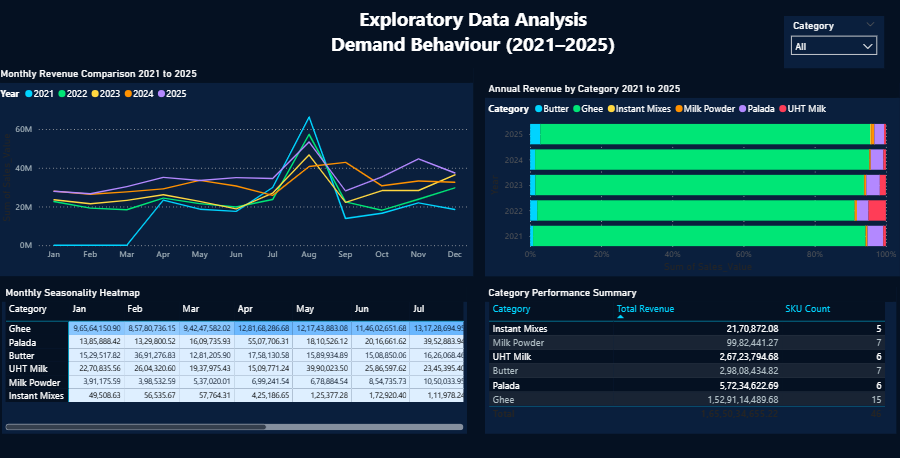

The dashboard page shown, as its layout file describes it:
{"tool":"powerbi","page":{"name":"EDA and Sales Trends","canvas":[1280,720],"ordinal":1},"visuals":[{"type":"slicer","fields":{"Values":["master_dairy_dataset.Category"]},"box":[1115.4,29.8,141.7,73.7],"z":0},{"type":"lineChart","title":"Monthly Revenue Comparison 2021 to 2025","fields":{"Y":["Sum(master_dairy_dataset.Sales_Value)"],"Series":["master_dairy_dataset.Year"],"Category":["master_dairy_dataset.Month_Name"]},"box":[0,103.5,674.6,294.8],"z":1000},{"type":"pivotTable","title":"Monthly Seasonality Heatmap","fields":{"Rows":["master_dairy_dataset.Category"],"Columns":["master_dairy_dataset.Month_Name"],"Values":["Sum(master_dairy_dataset.Sales_Value)"]},"box":[7.1,413.9,659.1,208.3],"z":2000},{"type":"hundredPercentStackedBarChart","title":"Annual Revenue by Category 2021 to 2025","fields":{"Category":["master_dairy_dataset.Year"],"Y":["Sum(master_dairy_dataset.Sales_Value)"],"Series":["master_dairy_dataset.Category"]},"box":[691.7,124.7,588.2,273.5],"z":3000},{"type":"tableEx","title":"Category Performance Summary","fields":{"Values":["master_dairy_dataset.Category","Sum(master_dairy_dataset.Sales_Value)","master_dairy_dataset.Product"]},"box":[691.7,413.9,582.5,208.3],"z":4000},{"type":"textbox","box":[354.3,9.9,640.6,93.5],"z":4001}]}

Visuals, with their boxes on the page's 1280x720 design canvas (x1, y1, x2, y2). These are canvas units, not pixel positions in the 900x458 screenshot, which may show the page scaled, cropped or inside an application window:
slicer - master_dairy_dataset.Category: 1115 30 1257 104
"Monthly Revenue Comparison 2021 to 2025" lineChart: 0 104 675 398
"Monthly Seasonality Heatmap" pivotTable: 7 414 666 622
"Annual Revenue by Category 2021 to 2025" hundredPercentStackedBarChart: 692 125 1280 398
"Category Performance Summary" tableEx: 692 414 1274 622
textbox: 354 10 995 103
